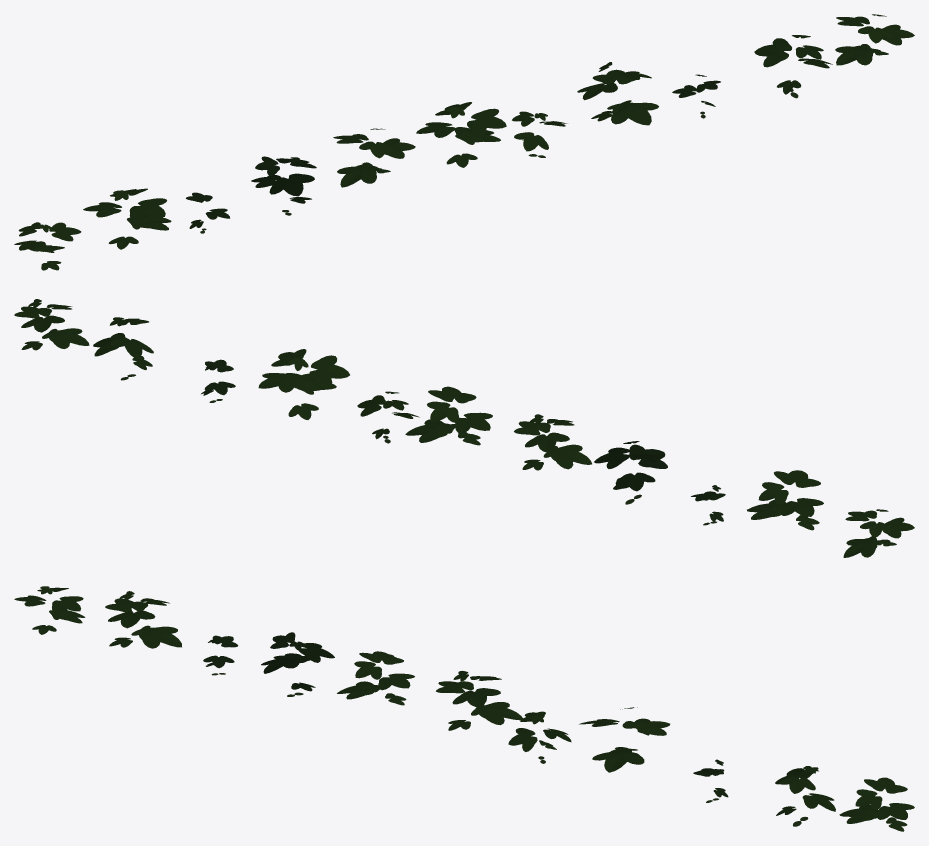
Rendered from ROW_17_SEG5_foliage.dae.
The picture shows the model from 3 angles, top to bottom: view 1: azimuth 30°, elevation 25°; view 2: azimuth 150°, elevation 25°; view 3: azimuth 330°, elevation 25°; orthographic projection.
Parts seen in each view (by area): view 1: ROW_17_SEG5_foliage; view 2: ROW_17_SEG5_foliage; view 3: ROW_17_SEG5_foliage.
Boxes of the visible parts, <box> form: ROW_17_SEG5_foliage: <box>14,14,914,270</box>; ROW_17_SEG5_foliage: <box>14,299,914,557</box>; ROW_17_SEG5_foliage: <box>14,586,914,831</box>.
Size of the model in its own units: 3.28 by 0.299 by 0.2387.
